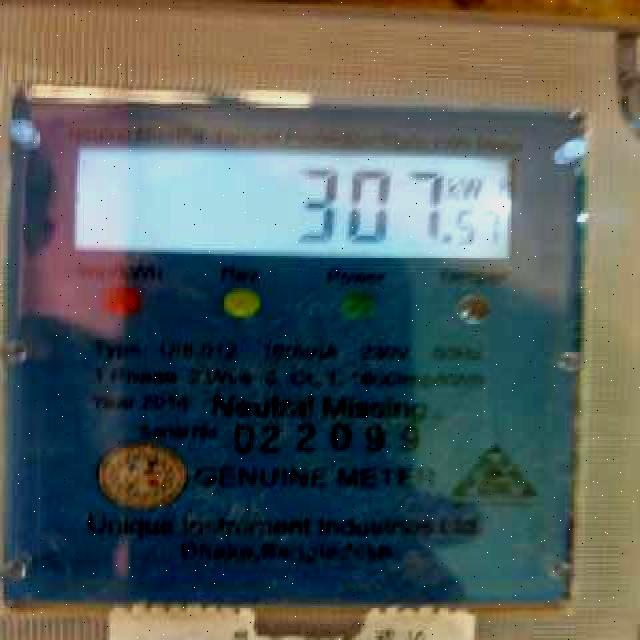LCD: (60, 133, 529, 272)
